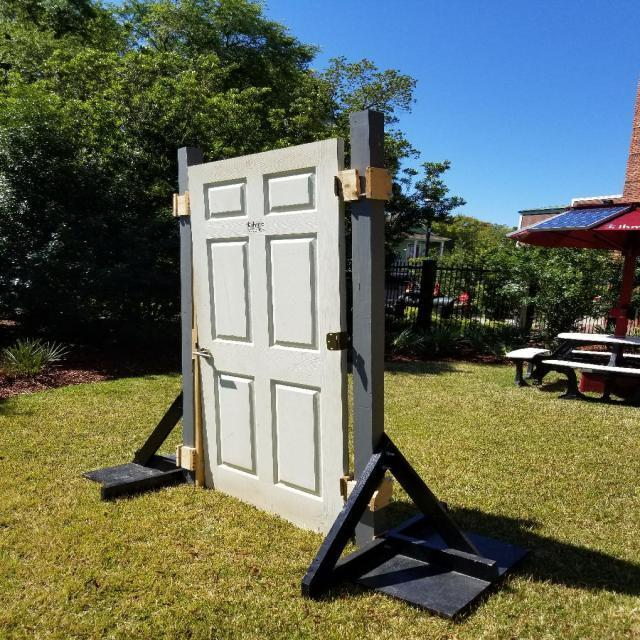door: (183, 135, 349, 542), (189, 346, 218, 360)
